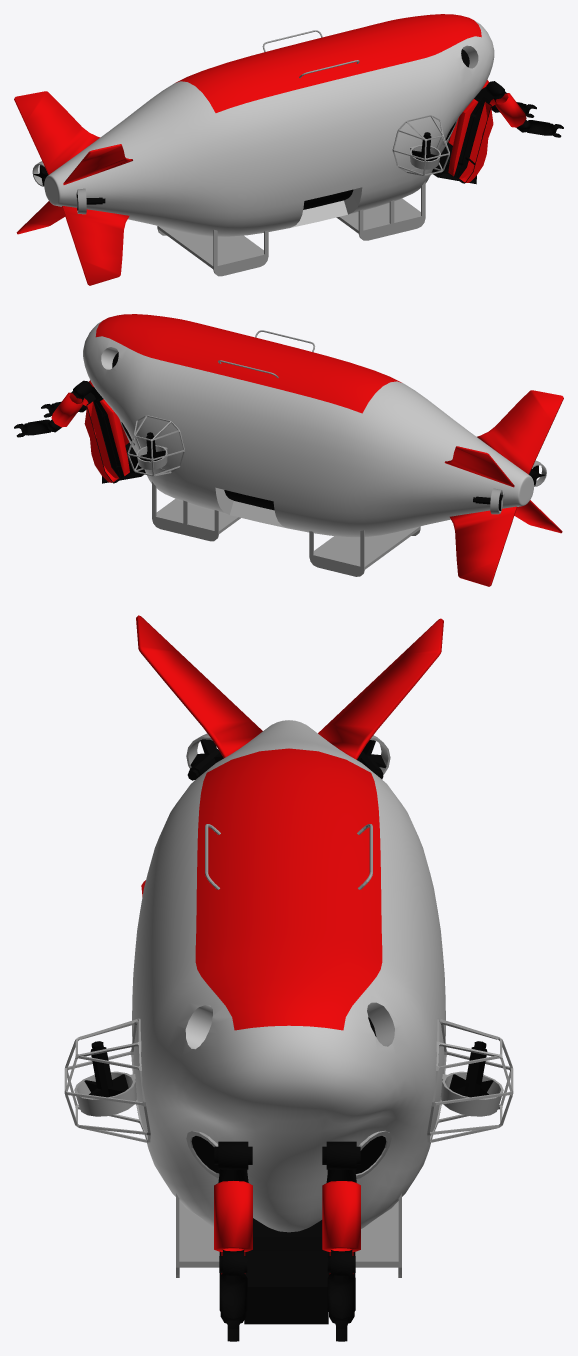
File: Submersible.fbx
The picture shows the model from 3 angles, top to bottom: view 1: azimuth 30°, elevation 25°; view 2: azimuth 150°, elevation 25°; view 3: azimuth 270°, elevation 25°; orthographic projection. The views are drawn at different scales.
Parts seen in each view (by area): view 1: Body, Arm_1_R, Arm_2_R, Arm_3_R; view 2: Body, Arm_1_L, Arm_2_L, Arm_3_L; view 3: Body, Arm_2_R, Arm_2_L, Arm_3_R, Arm_3_L, Up_Prop_R, Up_Prop_L.
Boxes of the visible parts, x1,y1,x2,y2 form: Body: (14, 14, 494, 285); Arm_1_R: (447, 86, 494, 183); Arm_2_R: (486, 81, 526, 127); Arm_3_R: (516, 120, 563, 137); Body: (83, 314, 563, 586); Arm_1_L: (83, 386, 130, 483); Arm_2_L: (51, 380, 91, 427); Arm_3_L: (14, 419, 61, 437); Body: (64, 615, 513, 1324); Arm_2_R: (214, 1141, 252, 1251); Arm_2_L: (322, 1141, 360, 1251); Arm_3_R: (219, 1251, 247, 1341); Arm_3_L: (327, 1251, 355, 1341); Up_Prop_R: (84, 1041, 128, 1097); Up_Prop_L: (449, 1041, 493, 1097).
Size of the model in its own units: 483 by 165 by 189.
